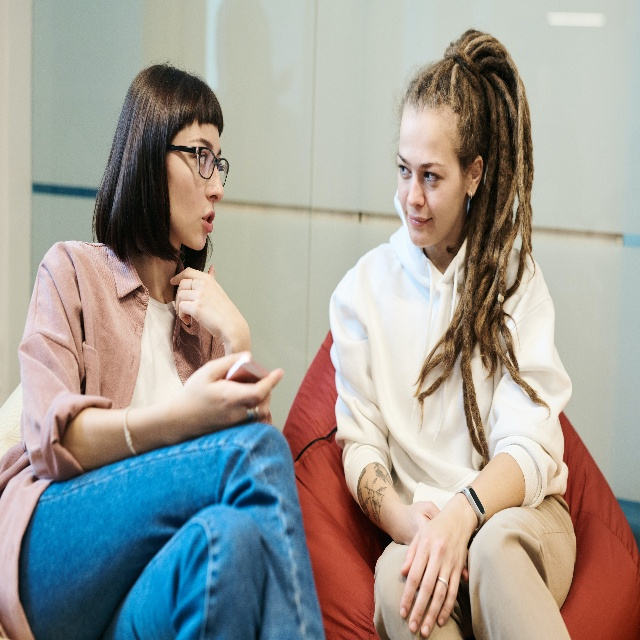Gafas: (168, 144, 230, 188)
Sin_guantes: (173, 351, 285, 443), (400, 505, 470, 640), (170, 263, 249, 349), (401, 497, 442, 546)
